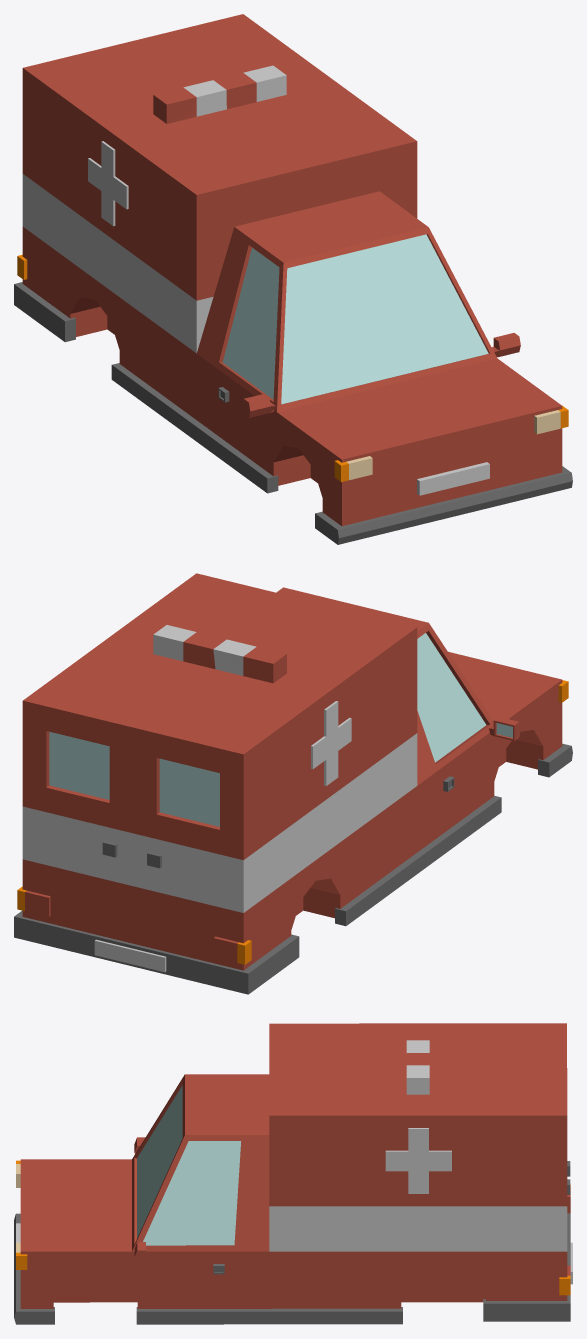
The model's file is Car_11.fbx.
3 renders of one model, top to bottom at view 1: azimuth 30°, elevation 25°; view 2: azimuth 150°, elevation 25°; view 3: azimuth 270°, elevation 25°, orthographic. The views are drawn at different scales.
Parts seen in each view (by area): view 1: Car_11; view 2: Car_11; view 3: Car_11.
Part boxes in pixels (<box>): Car_11: <box>14,14,572,544</box>; Car_11: <box>14,573,572,994</box>; Car_11: <box>14,1023,572,1324</box>.
Size of the model in its own units: 197 by 180 by 411.
